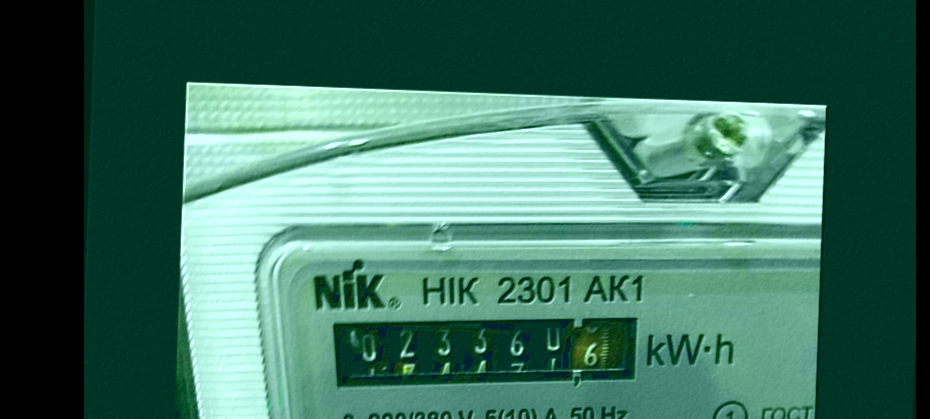0: (359, 329, 383, 364), (543, 321, 566, 353)
2: (399, 325, 420, 359)
3: (473, 321, 493, 355), (435, 325, 455, 357)
6: (582, 336, 605, 370), (508, 324, 530, 358)
screen: (316, 296, 658, 403)
